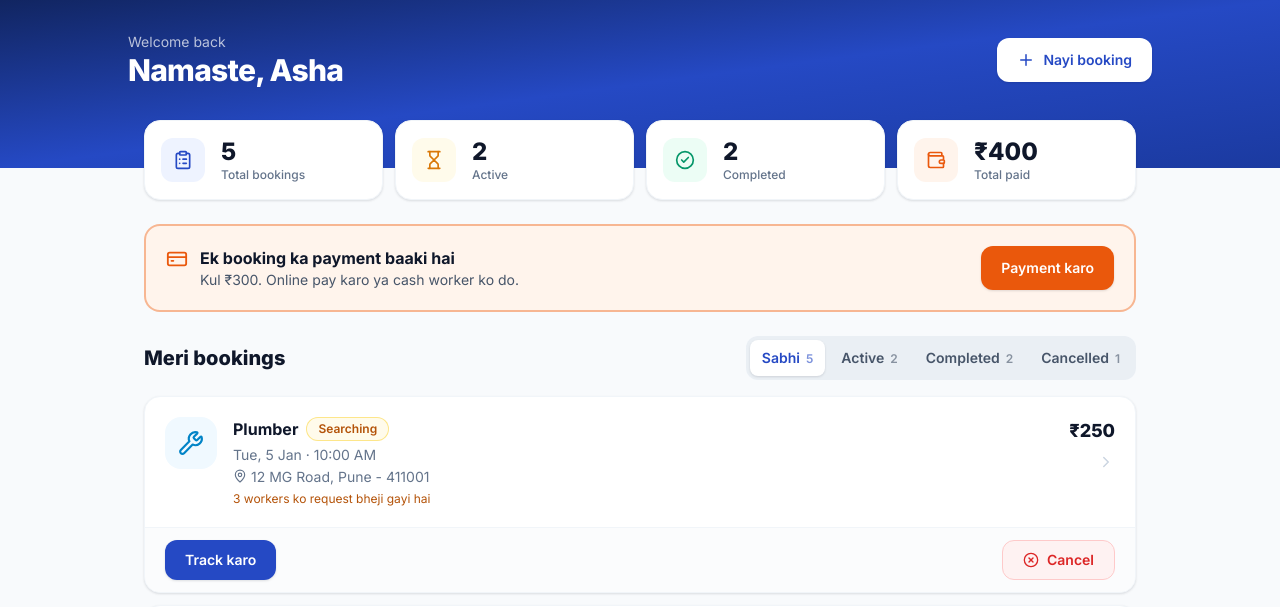
Test case: the filter tabs narrow the list
This screenshot has width=1280, height=607.
Click the tab "Active2".
click(870, 358)  # box [829,340,910,376]
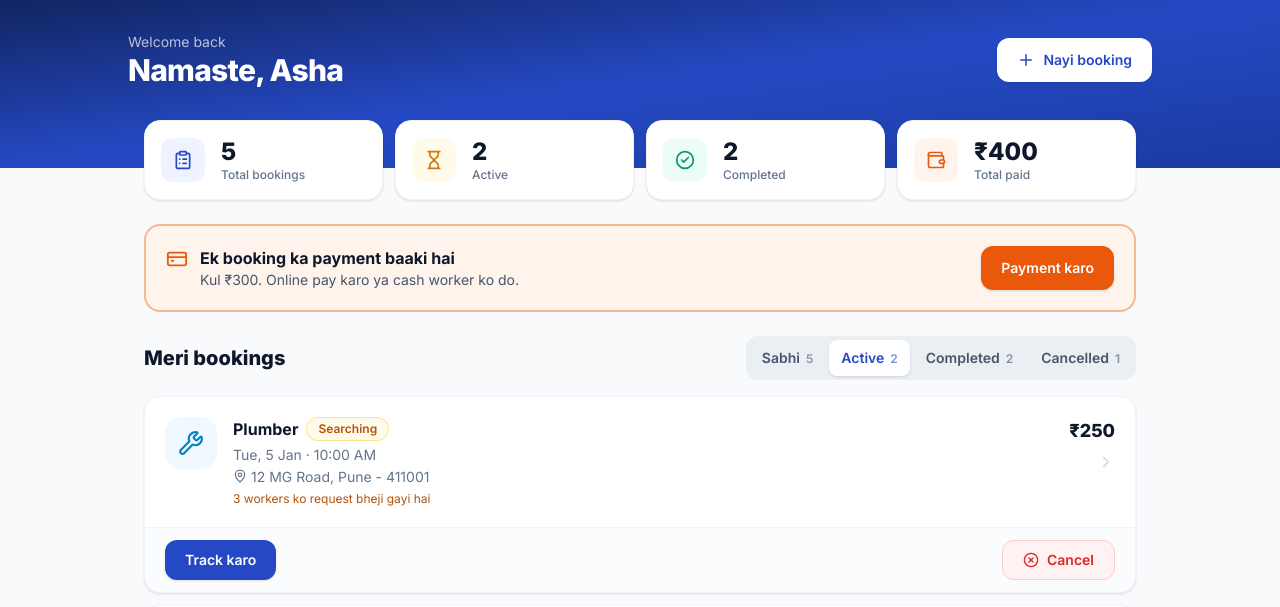
Click the tab "Completed2".
click(970, 358)  # box [914,340,1025,376]
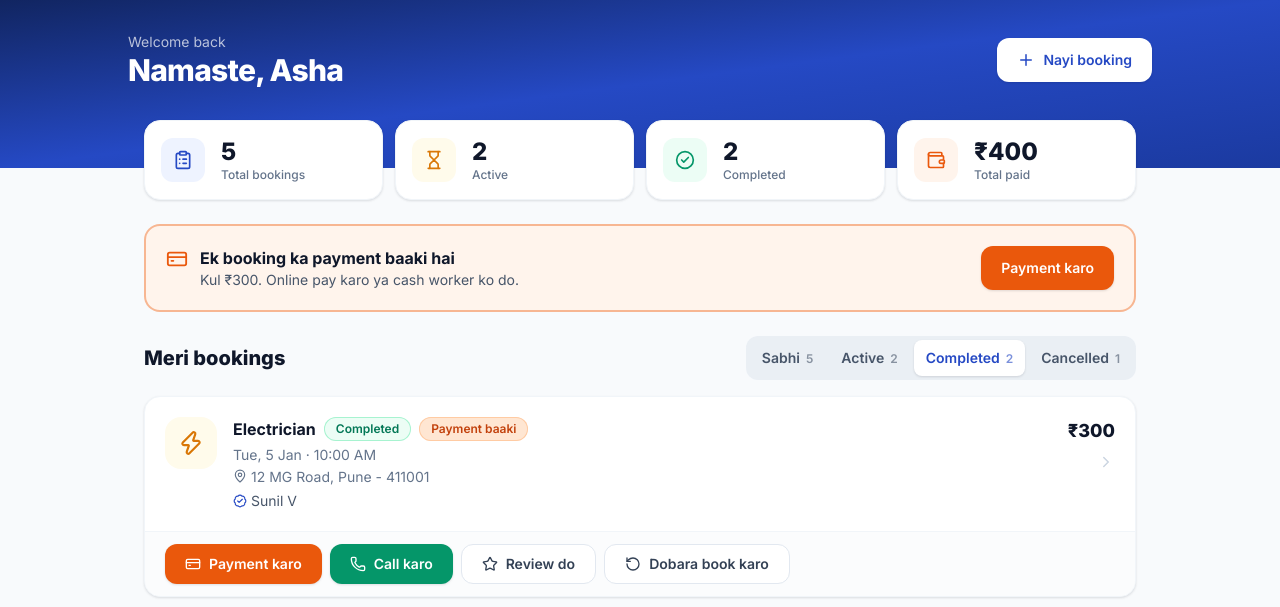
Click the tab "Cancelled1".
click(1081, 358)  # box [1029,340,1132,376]
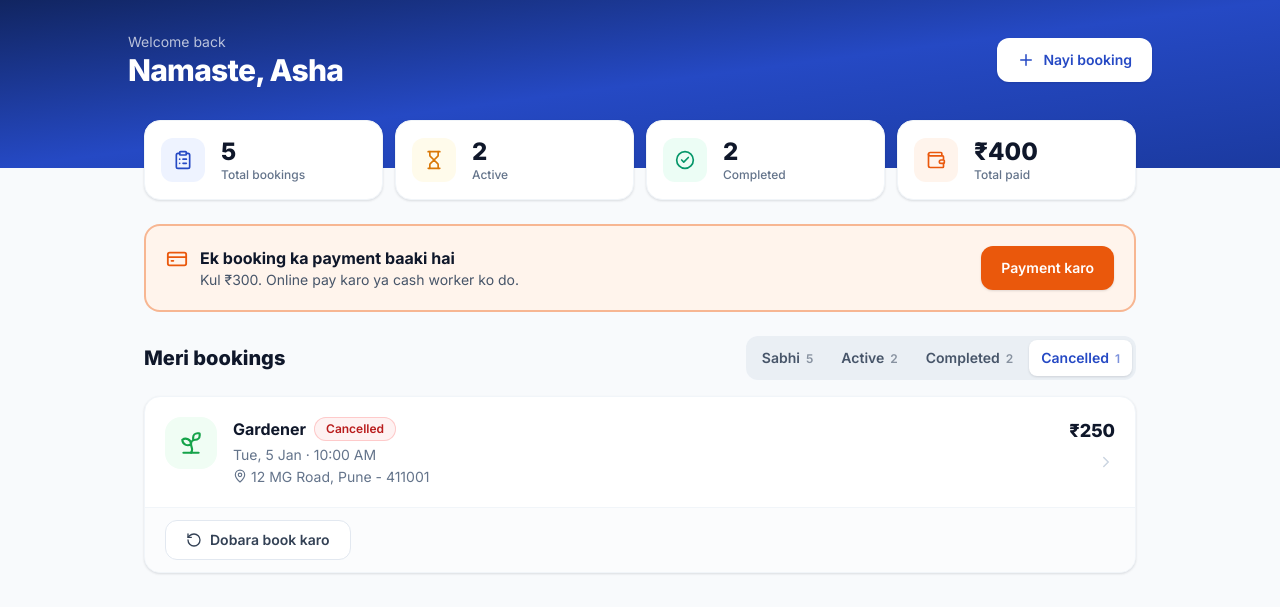
Result: the number of list items is 1 at [144,396,1136,573]
